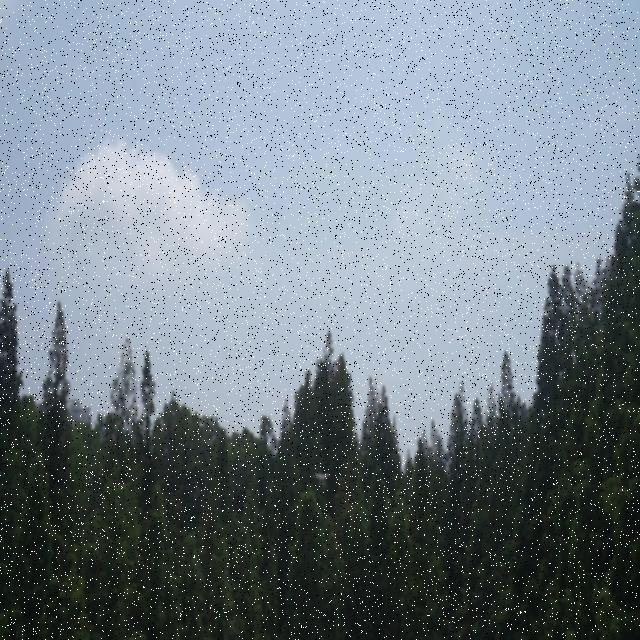UAV: (314, 474, 330, 486)
